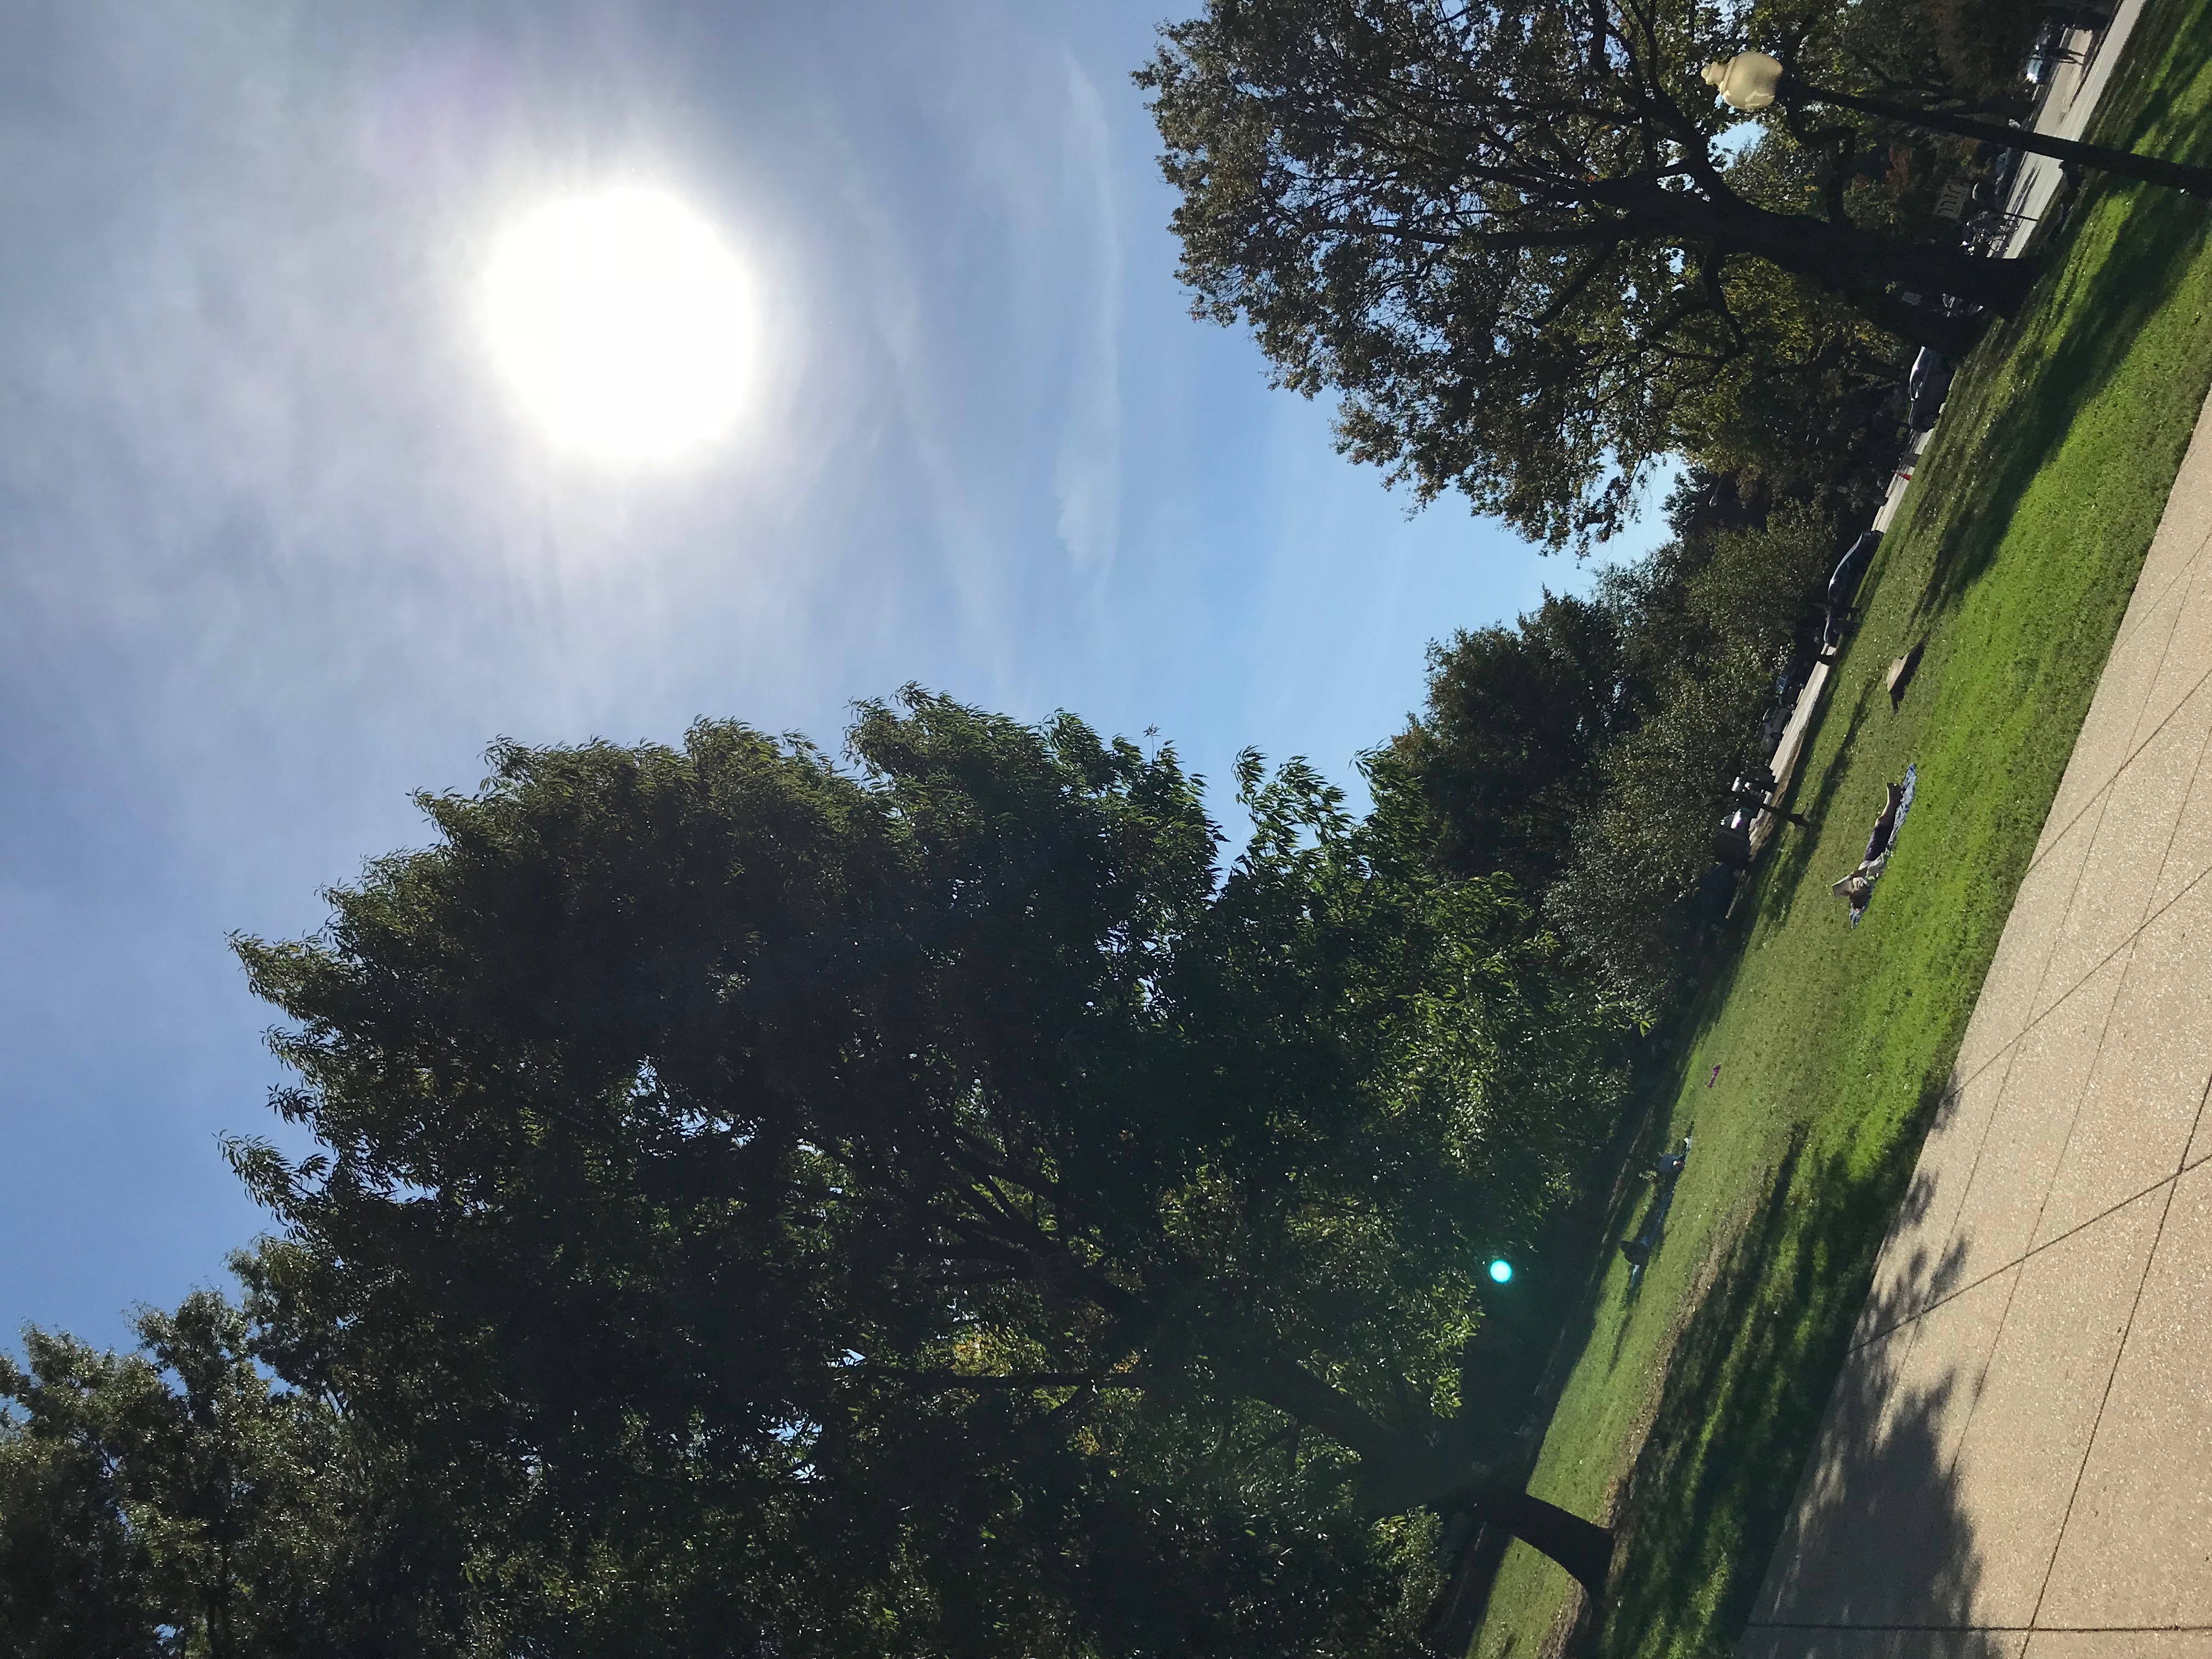flare: (1487, 1258, 1515, 1286)
